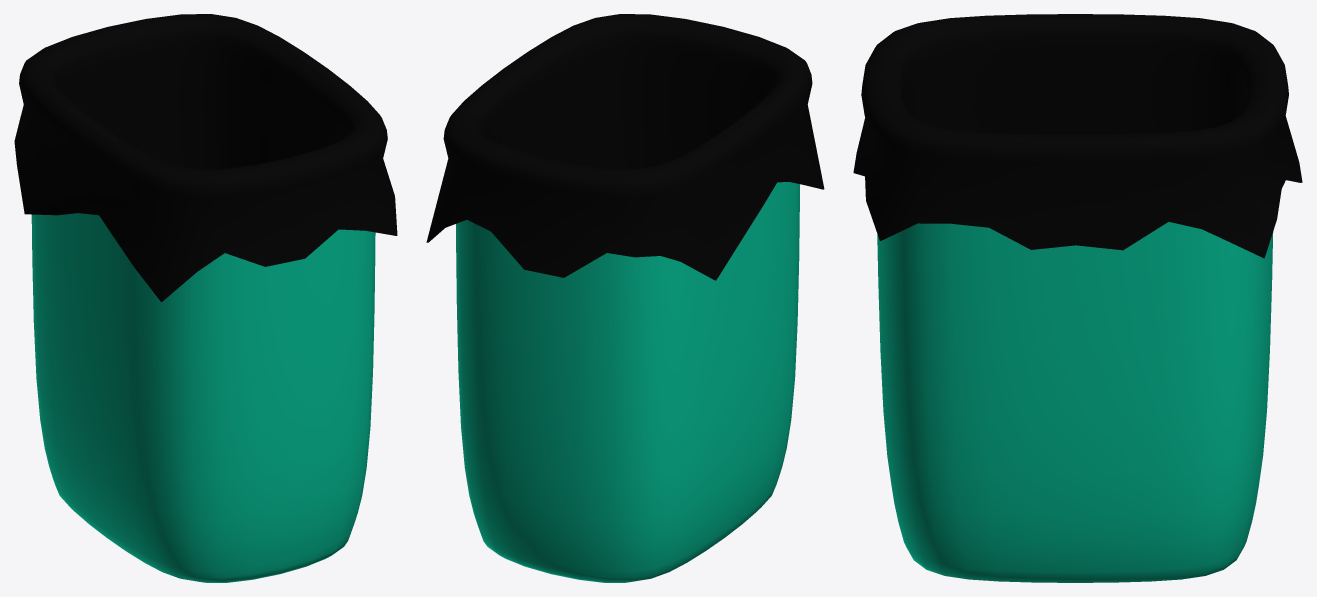
Rendered from Elec_trashcan.fbx.
3 renders of one model, left to right at view 1: azimuth 30°, elevation 25°; view 2: azimuth 150°, elevation 25°; view 3: azimuth 270°, elevation 25°, orthographic. The views are drawn at different scales.
Visible parts, largest first — view 1: Cube; view 2: Cube; view 3: Cube.
Boxes of the visible parts, x1=… form: Cube: x1=14, y1=14, x2=397, y2=582; Cube: x1=426, y1=14, x2=824, y2=582; Cube: x1=853, y1=14, x2=1302, y2=582.
Bounding box in the file's own units: 165 × 250 × 220.
